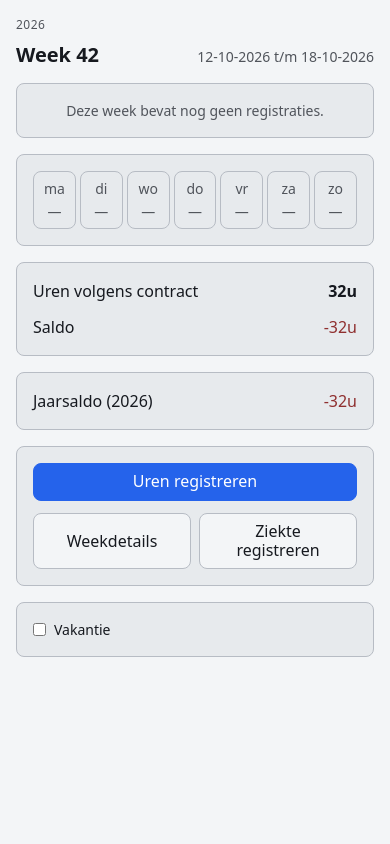
Test: DashboardPage › toont een Nederlandse foutmelding bij een ongeldige registratie
Click the button "Uren registreren" at [195, 482], box [33,463,357,501]
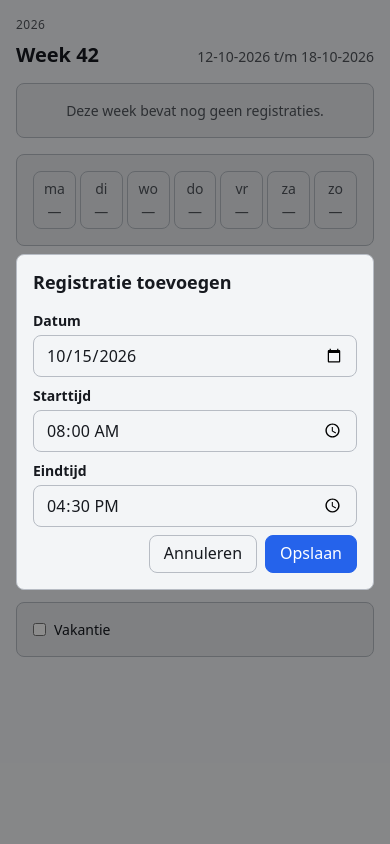
Type "2099-01-01" into the date field with id "registration-date" at [195, 356], box [33,335,357,377]
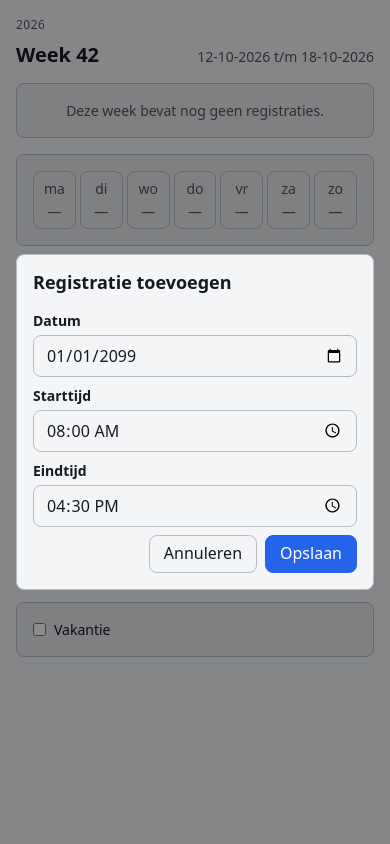
Submit the form, box [33,310,357,573]
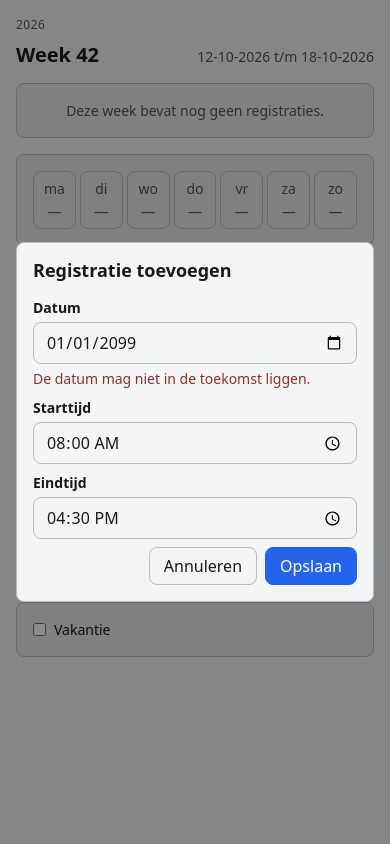
Expected: the text "De datum mag niet in de toekomst liggen." is shown, [33,368,357,389]
